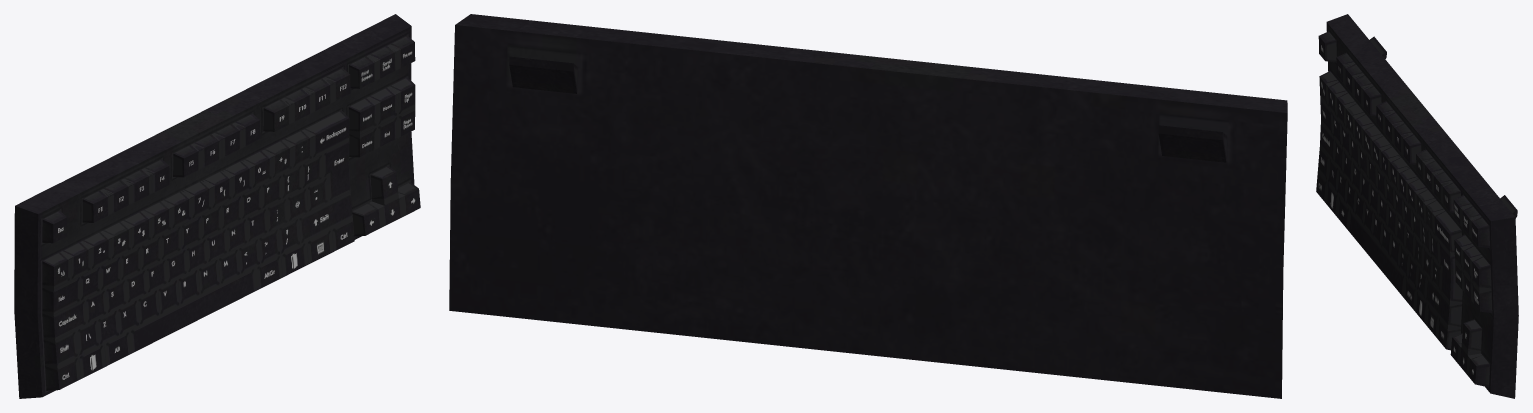
Rendered from teclado-solo.glb.
3 views of the same model, side by side, from view 1: azimuth 30°, elevation 25°; view 2: azimuth 150°, elevation 25°; view 3: azimuth 270°, elevation 25° (orthographic). The views are drawn at different scales.
Parts seen in each view (by area): view 1: Keyboard_01; view 2: Keyboard_01; view 3: Keyboard_01.
Part boxes in pixels (x1,y1,x2,y2): Keyboard_01: (14,14,420,398); Keyboard_01: (449,14,1287,398); Keyboard_01: (1316,14,1518,398).
Size of the model in its own units: 1.13 by 0.4619 by 0.4473.
1 material, 1 textured.
